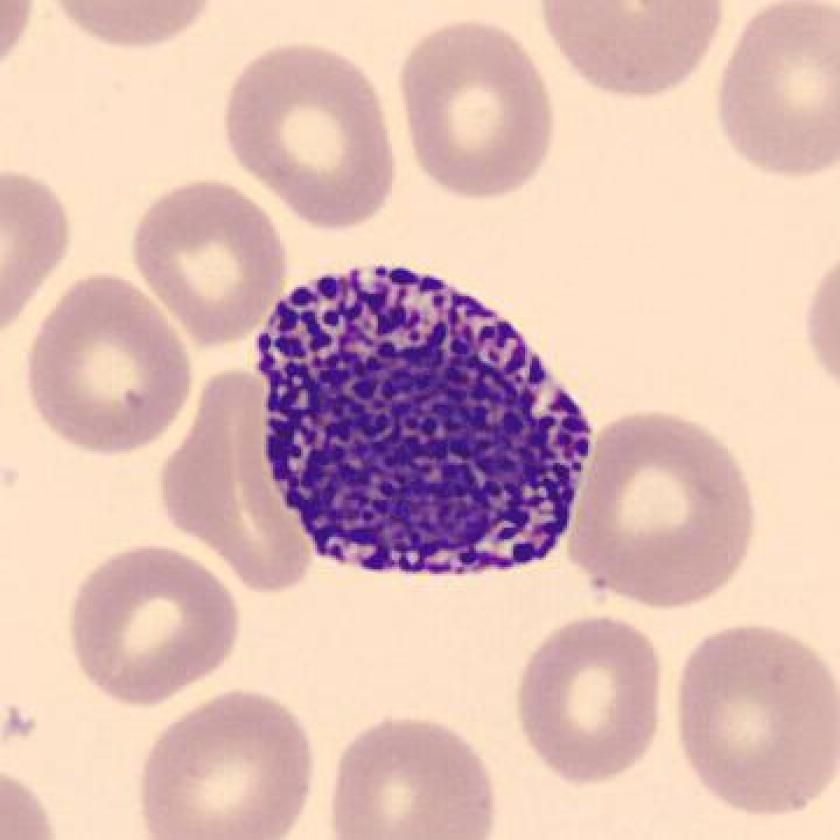basophil: (242, 251, 606, 582)
